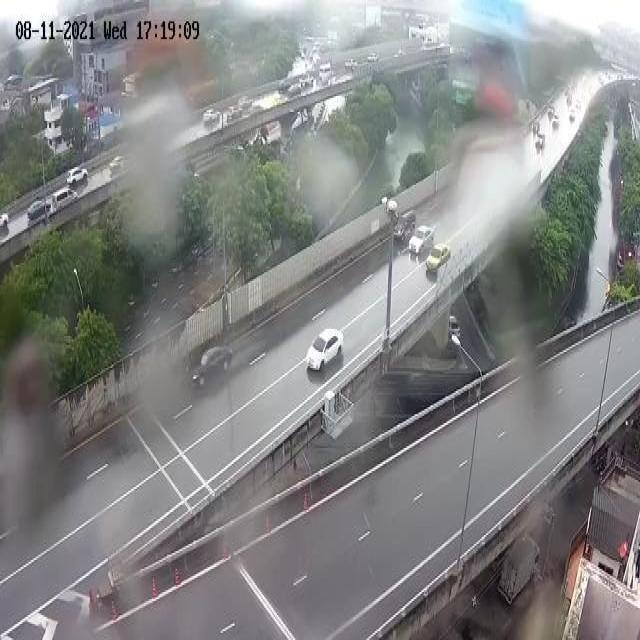Car: (304, 325, 354, 378), (189, 342, 238, 396), (420, 234, 456, 280), (410, 231, 444, 265), (395, 202, 417, 249), (64, 160, 91, 190), (109, 146, 132, 180), (27, 196, 50, 224), (203, 107, 222, 127), (364, 46, 380, 69), (344, 55, 361, 74)
Van: (52, 187, 78, 212), (318, 63, 334, 87)
